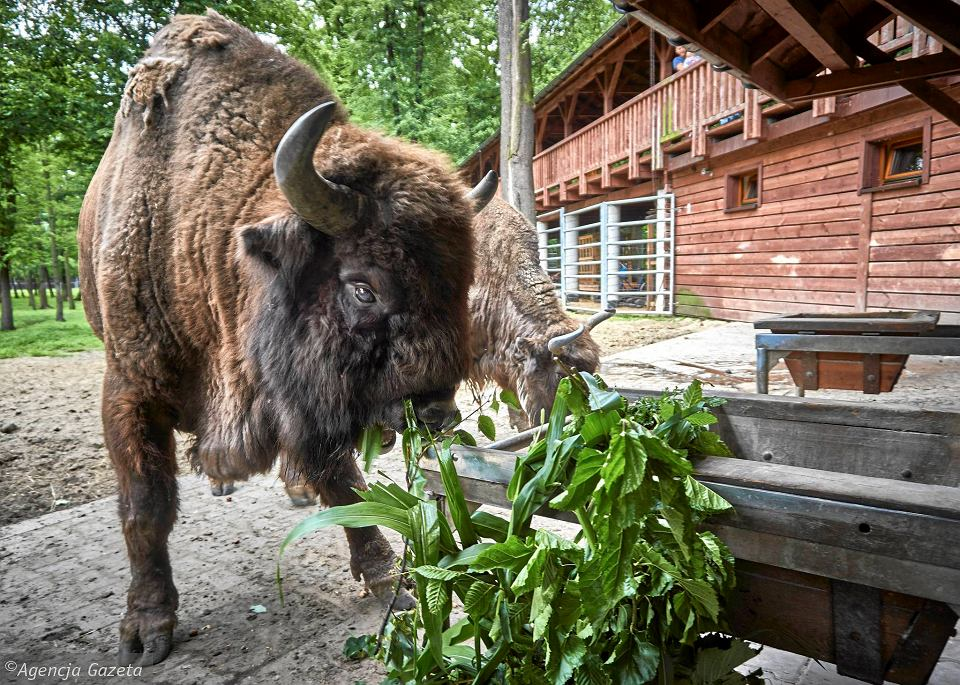zubr: (48, 7, 494, 668), (448, 134, 627, 445)
